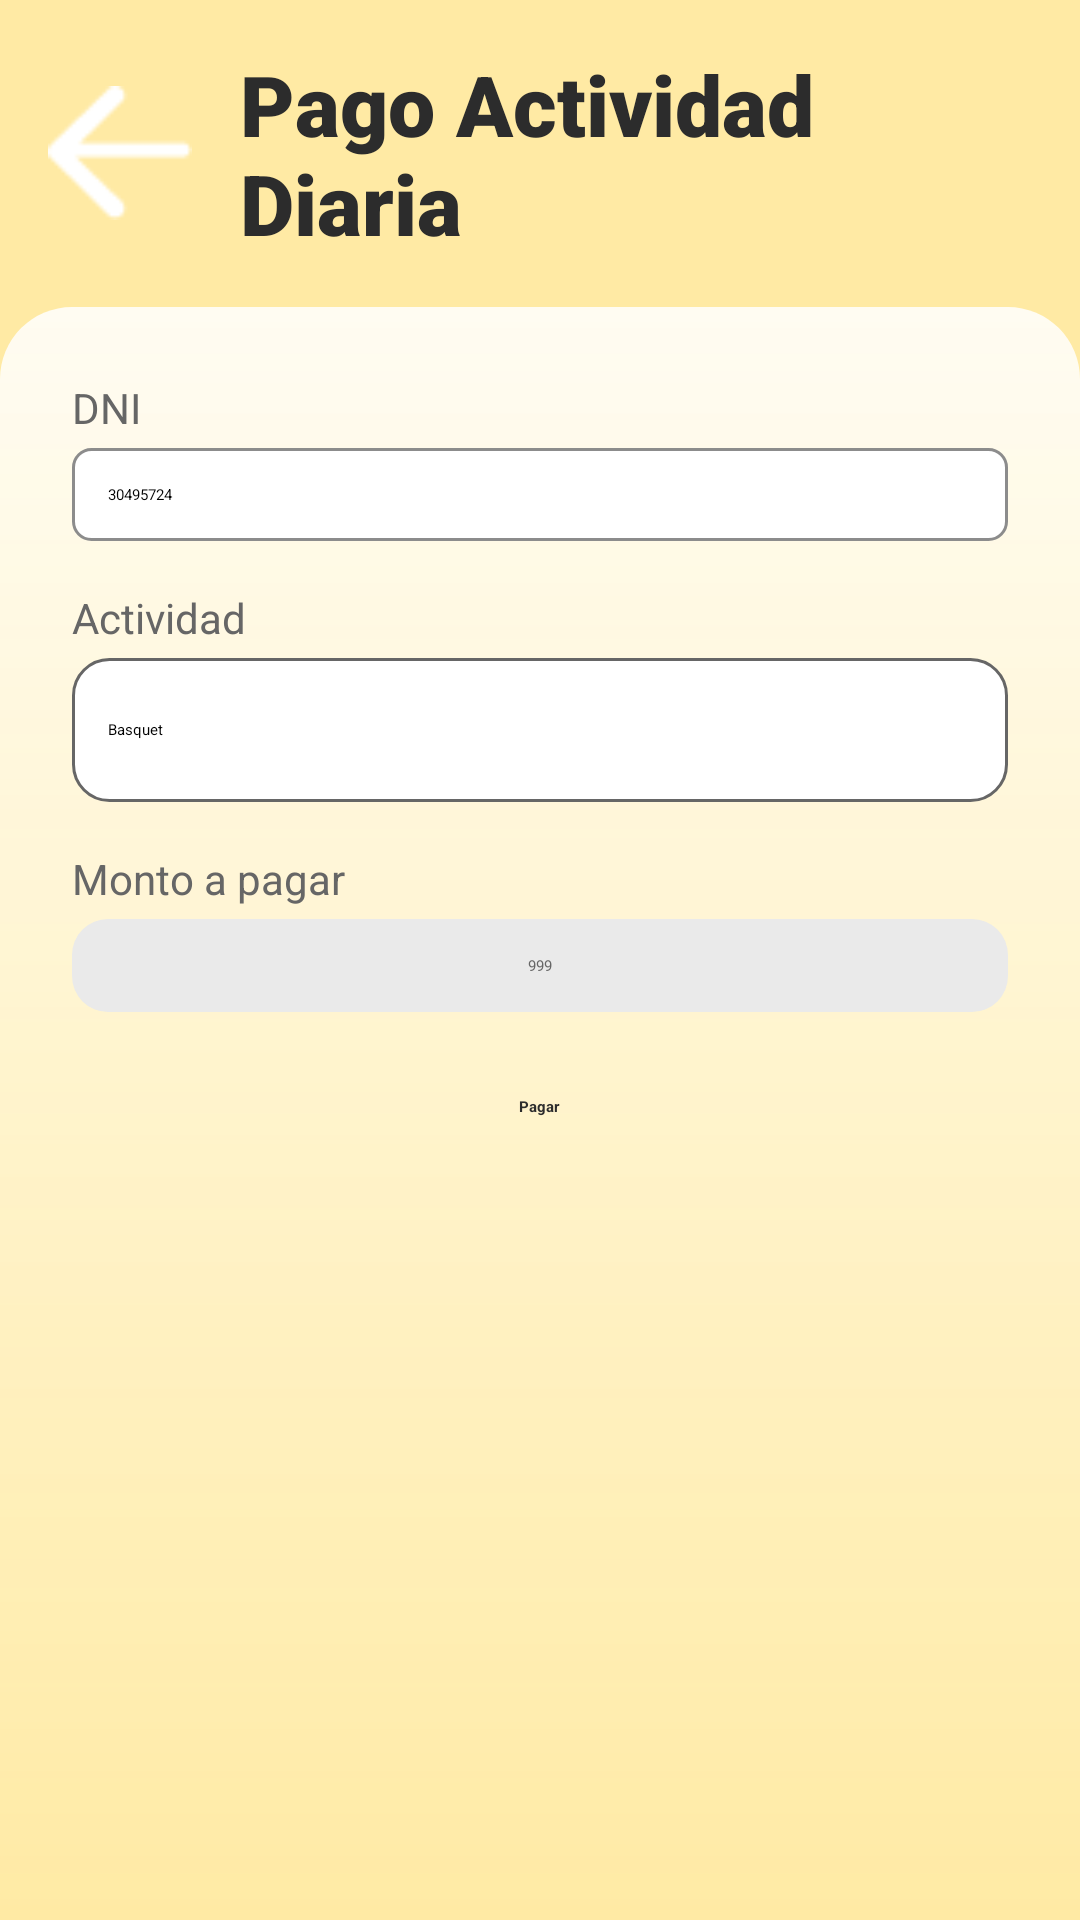

Where icons sit on this 1080×1920 app screen, as (x1, y1, x2, y2):
atras: (48, 86, 192, 218)
